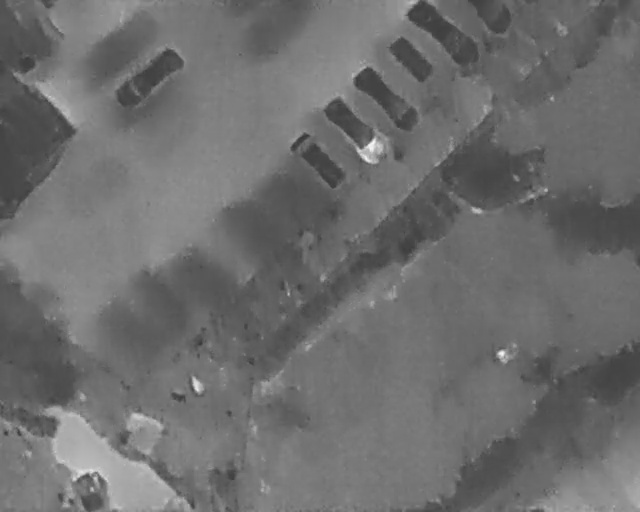Car: (316, 88, 398, 171), (347, 59, 426, 138), (109, 41, 188, 115), (406, 0, 481, 68), (286, 128, 350, 194), (475, 0, 512, 33)
